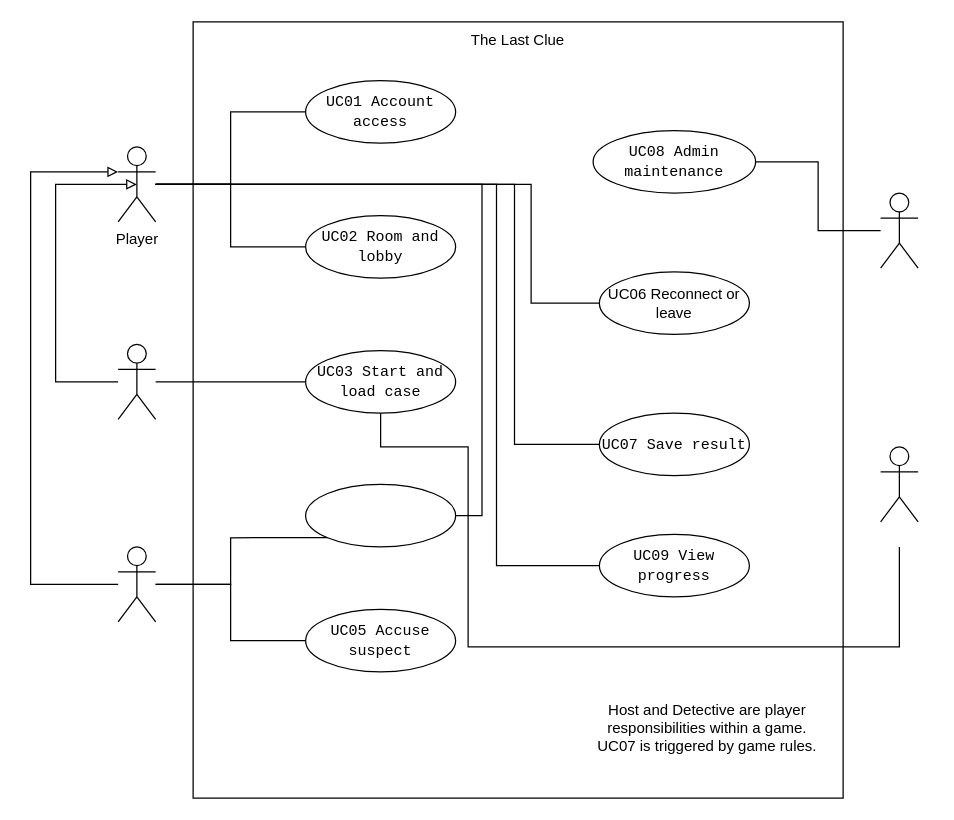
The diagram is 954 pixels wide and 820 high, and some of its shapes have lost their labels. The shapes that lost their labels are listed below. From the top down, each one's centre as x and y in pixels, then its label:
(898,230): Admin
(136,381): Host
(898,484): AI service
(380,515): UC04 Investigate
(136,584): Detective
